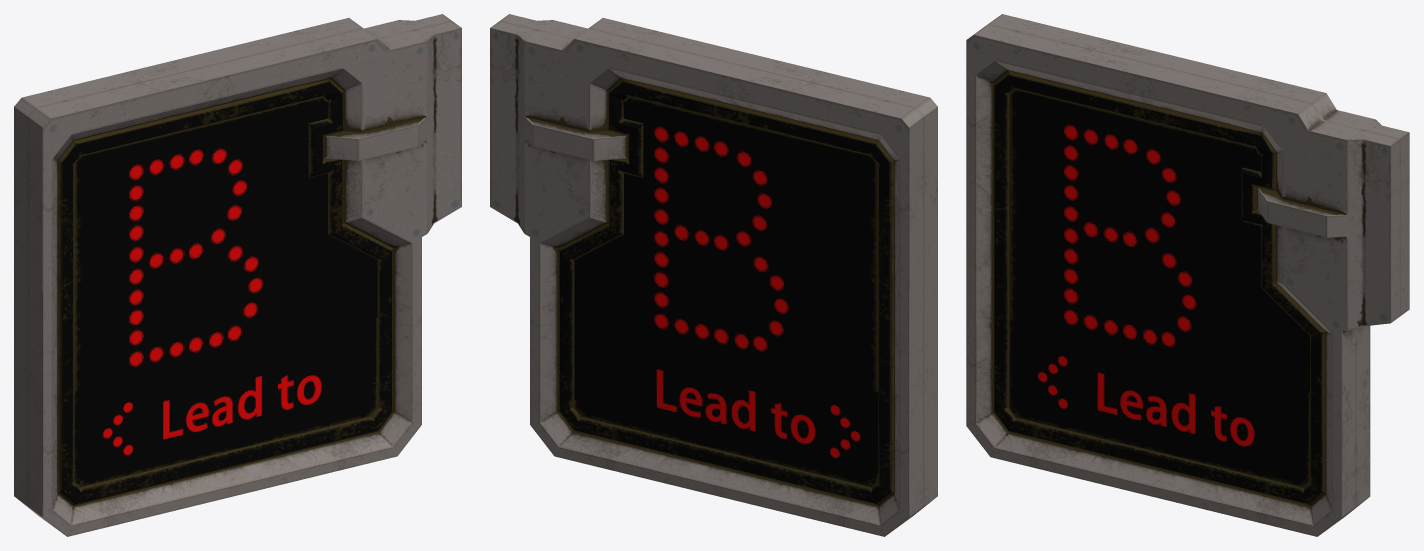
The model's file is M_c3_bjq_dianpai_02.fbx.
3 renders of one model, left to right at view 1: azimuth 30°, elevation 25°; view 2: azimuth 150°, elevation 25°; view 3: azimuth 330°, elevation 25°, orthographic.
Visible parts, largest first — view 1: M_c3_bjq_dianpai_02.mo; view 2: M_c3_bjq_dianpai_02.mo; view 3: M_c3_bjq_dianpai_02.mo.
Boxes of the visible parts, x1,y1,x2,y2 form: M_c3_bjq_dianpai_02.mo: [14, 14, 461, 536]; M_c3_bjq_dianpai_02.mo: [490, 14, 937, 536]; M_c3_bjq_dianpai_02.mo: [966, 14, 1409, 536].
Size of the model in its own units: 118 by 113 by 19.9.
